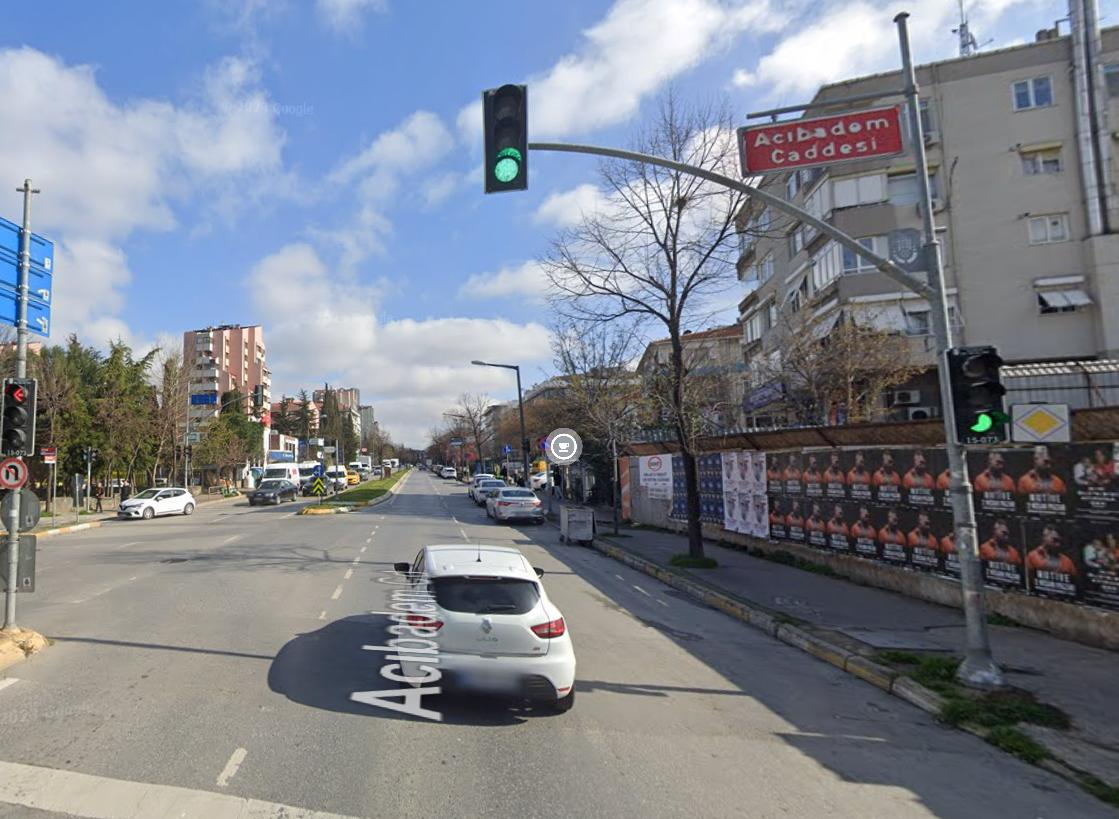greenlight: (951, 346, 1004, 449), (483, 88, 523, 191)
nopark: (539, 436, 551, 453)
redlight: (3, 380, 32, 453)
